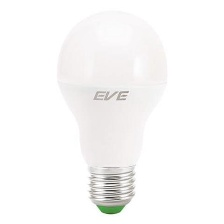light_bulb: (52, 6, 170, 216)
